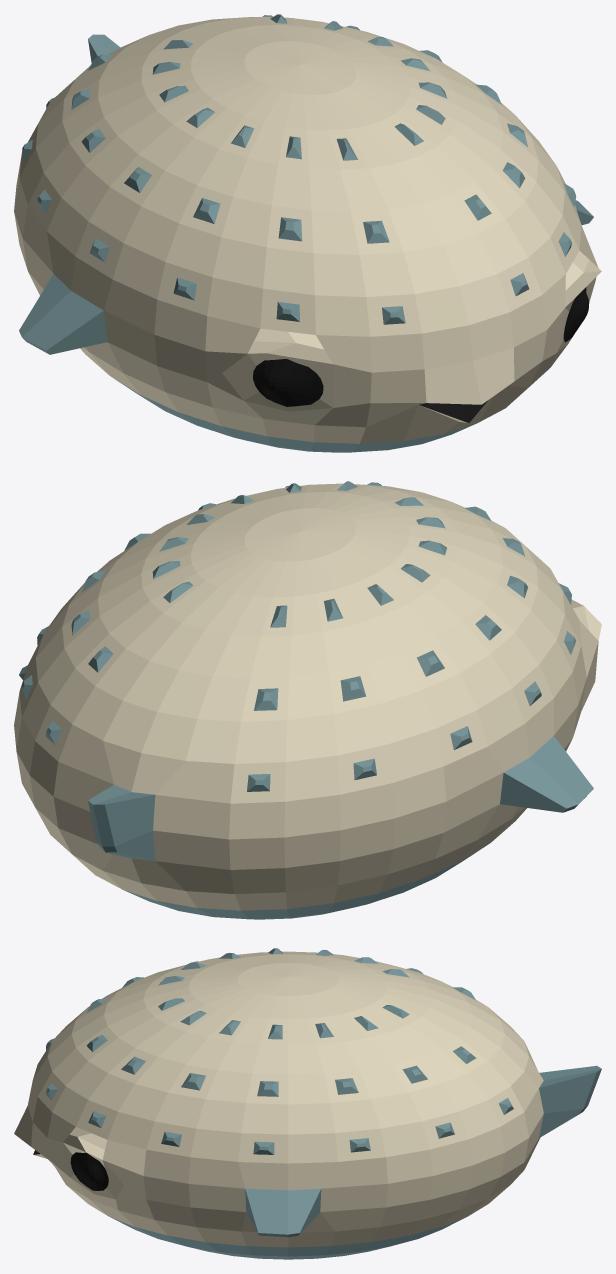
Rendered from puffer_final.glb.
3 renders of one model, top to bottom at view 1: azimuth 30°, elevation 25°; view 2: azimuth 150°, elevation 25°; view 3: azimuth 270°, elevation 25°, orthographic. The views are drawn at different scales.
Visible parts, largest first — view 1: Puffer; view 2: Puffer; view 3: Puffer.
Boxes of the visible parts, x1,y1,x2,y2 form: Puffer: [14, 14, 601, 452]; Puffer: [14, 481, 601, 919]; Puffer: [14, 948, 601, 1259].
Bounding box in the file's own units: 1.04 × 0.607 × 1.26.
